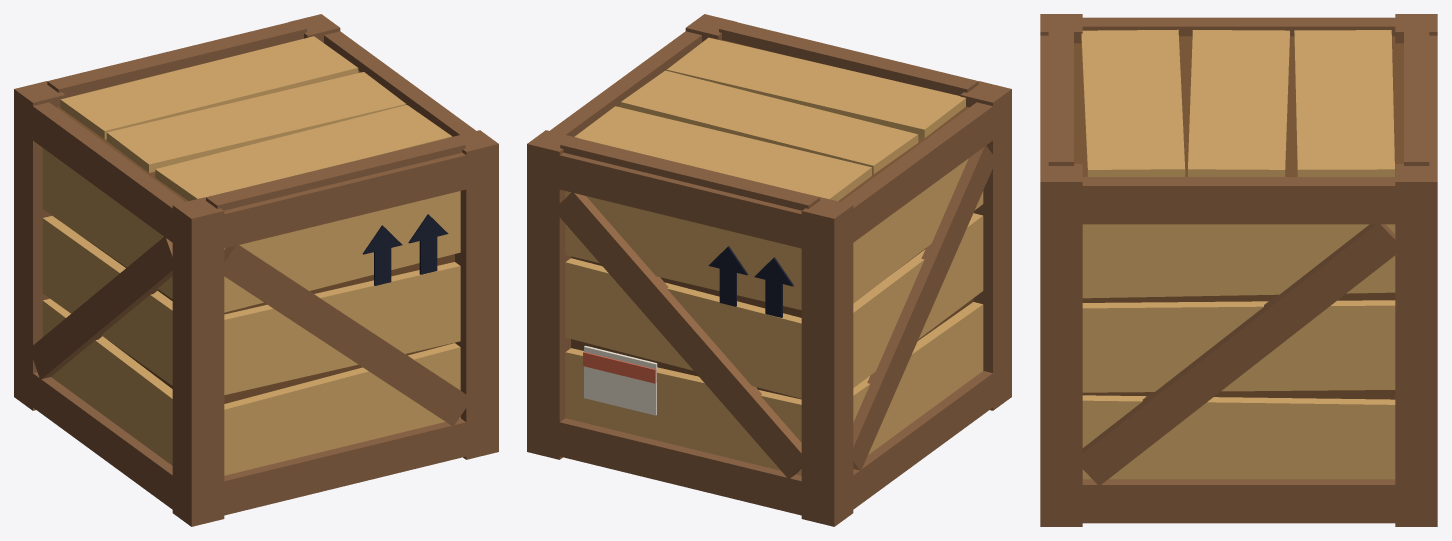
File: sm_env_prop_wooden_crate.glb
3 views of the same model, side by side, from view 1: azimuth 30°, elevation 25°; view 2: azimuth 150°, elevation 25°; view 3: azimuth 270°, elevation 25° (orthographic). The views are drawn at different scales.
Parts seen in each view (by area): view 1: CrateCorner, Plank.004, Plank, LidPlank.001, LidPlank.002, CrateCorner.002, LidPlank, Plank.008, CrateBand, CrateBrace, CrateBand.004, Plank.005 (+13 smaller); view 2: CrateCorner.001, Plank.006, LidPlank.001, LidPlank, CrateBrace.002, CrateCorner.003, LidPlank.002, Plank.002, Plank.010, CrateBand.002, CrateBand.006, CrateBrace.001 (+15 smaller); view 3: Plank.007, Plank.003, Plank.011, CrateBrace.003, CrateBand.007, CrateCorner.002, CrateCorner.003, LidPlank, LidPlank.001, LidPlank.002, CrateBand.003, CrateCore (+7 smaller).
Boxes of the visible parts, <box> form: CrateCorner: <box>172,197,224,526</box>; Plank.004: <box>224,262,460,395</box>; Plank: <box>224,343,460,475</box>; LidPlank.001: <box>106,72,406,172</box>; LidPlank.002: <box>60,36,358,139</box>; CrateCorner.002: <box>447,130,498,459</box>; LidPlank: <box>155,105,452,200</box>; Plank.008: <box>224,191,460,312</box>; CrateBand: <box>221,418,469,516</box>; CrateBrace: <box>218,245,472,426</box>; CrateBand.004: <box>221,152,469,249</box>; Plank.005: <box>42,216,172,385</box>; CrateCorner.001: <box>801,197,853,526</box>; Plank.006: <box>565,258,801,398</box>; LidPlank.001: <box>620,70,918,174</box>; LidPlank: <box>666,37,965,138</box>; CrateBrace.002: <box>554,192,807,479</box>; CrateCorner.003: <box>527,130,578,459</box>; LidPlank.002: <box>574,106,871,201</box>; Plank.002: <box>565,348,801,475</box>; Plank.010: <box>565,191,801,310</box>; CrateBand.002: <box>556,418,804,516</box>; CrateBand.006: <box>556,152,804,249</box>; CrateBrace.001: <box>853,145,993,470</box>; Plank.007: <box>1082,300,1395,392</box>; Plank.003: <box>1082,395,1395,479</box>; Plank.011: <box>1082,224,1395,298</box>; CrateBrace.003: <box>1074,223,1403,485</box>; CrateBand.007: <box>1078,177,1399,224</box>; CrateCorner.002: <box>1040,164,1082,526</box>; CrateCorner.003: <box>1395,164,1437,526</box>; LidPlank: <box>1081,29,1185,176</box>; LidPlank.001: <box>1188,30,1289,176</box>; LidPlank.002: <box>1294,30,1394,176</box>; CrateBand.003: <box>1078,479,1399,523</box>; CrateCore: <box>1074,36,1403,399</box>.
Bounding box in the file's own units: 0.94 × 0.91 × 0.94.
